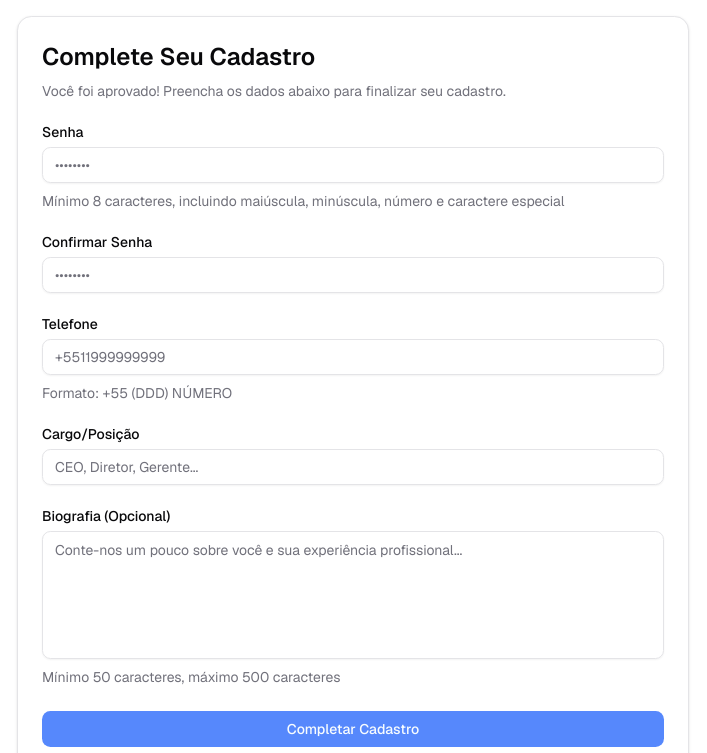
it: RegisterPage › deve mostrar erro de validação para telefone inválido
Type "123" into the field labelled "Telefone".
click(353, 357); type("123")  # box [42, 339, 664, 375]
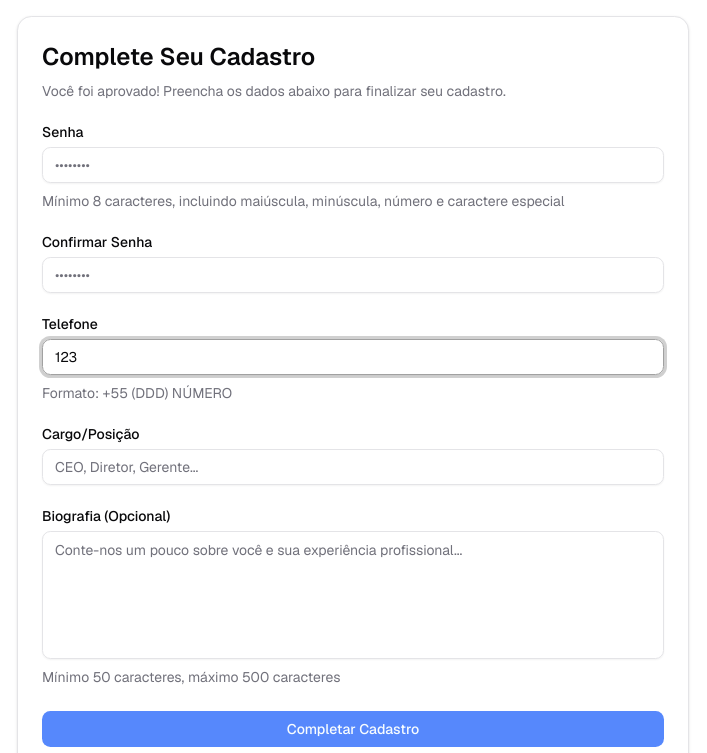
Click the button "Completar Cadastro".
click(353, 729)  # box [42, 711, 664, 747]
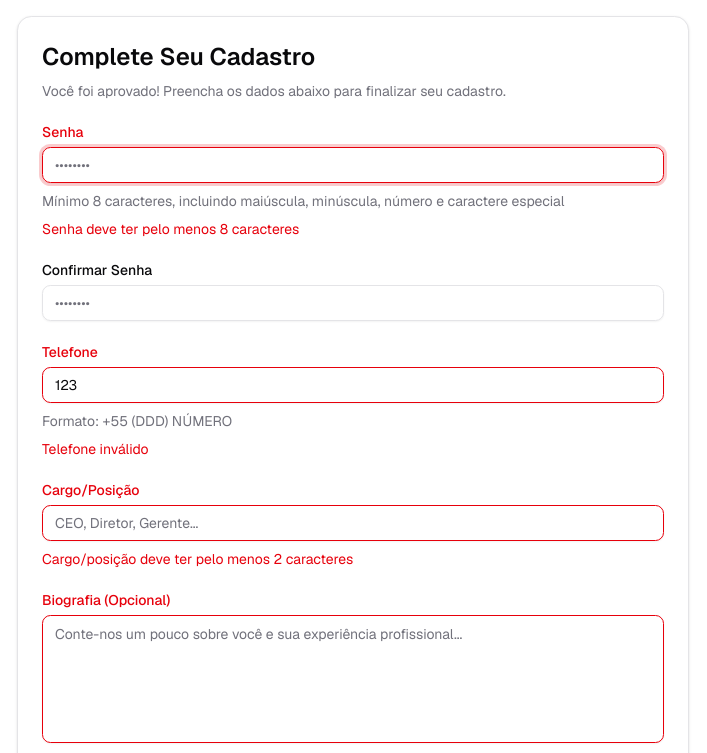
Check: the text "Telefone inválido" is shown, box [42, 440, 149, 458]
